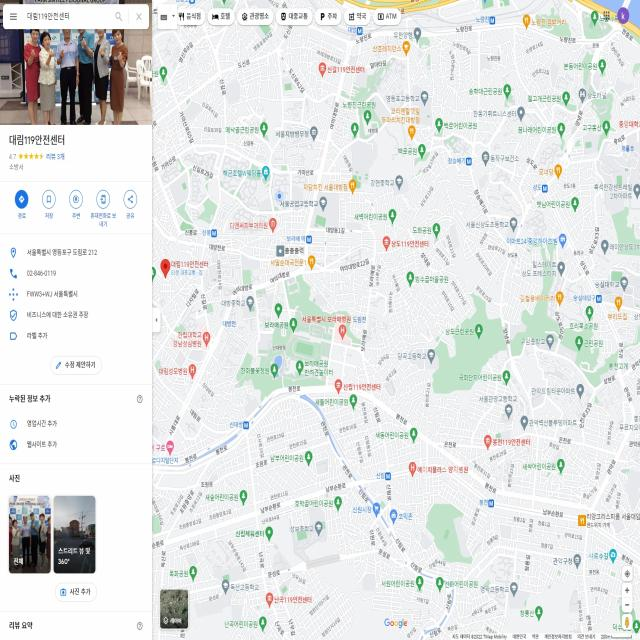content: (4, 236, 107, 347)
search: (3, 2, 148, 31)
